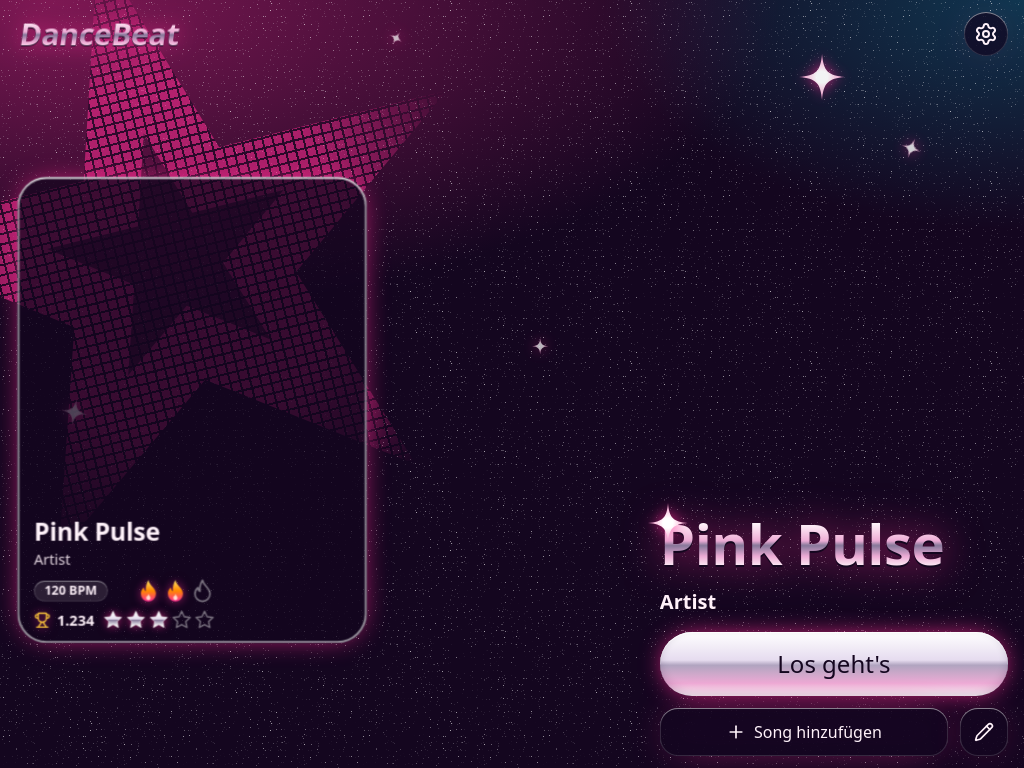
Scenario: Dance video in the edit dialog (8h-2b-2a) › shows an error inside the confirmation when removing fails
Click the button named "Song bearbeiten".
click(984, 732)  # box [960,708,1008,756]
(page scrolled)
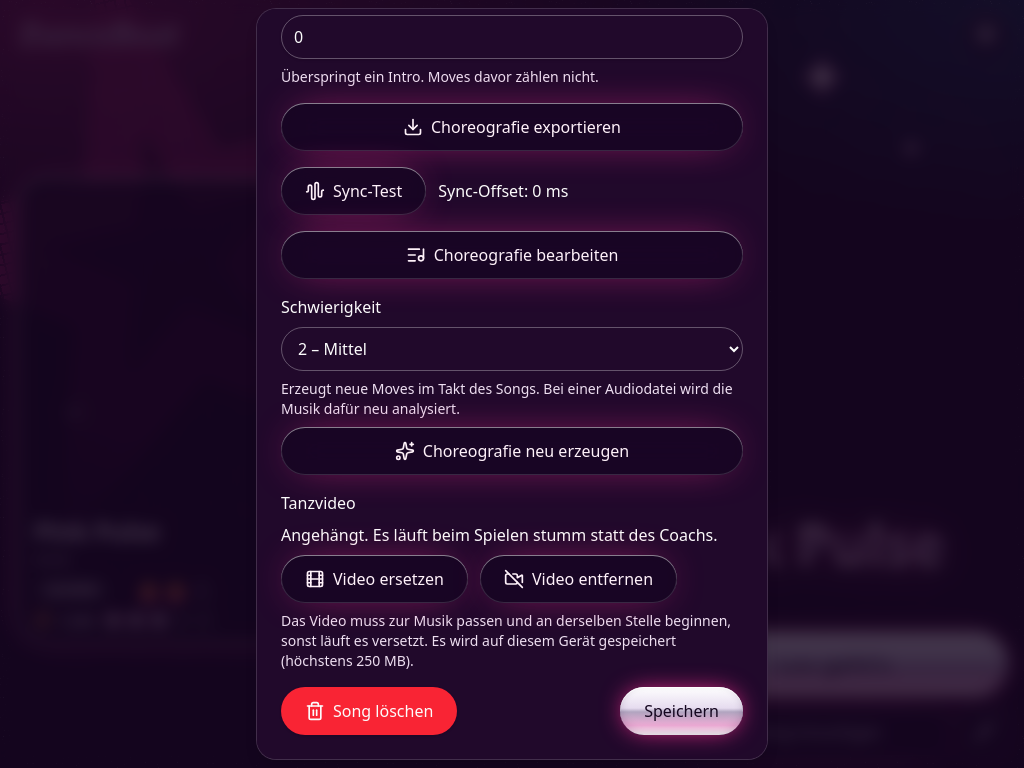
Click the button "Video entfernen".
click(579, 579)  # box [480,555,677,603]
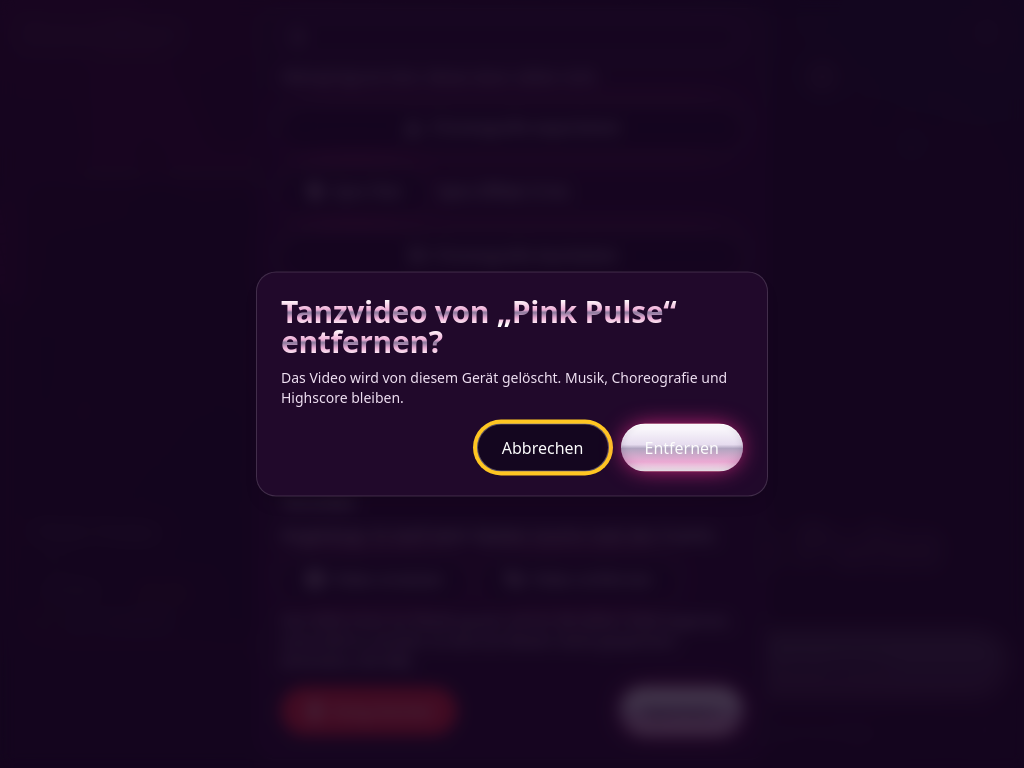
Click the button "Entfernen".
click(682, 448)  # box [620,424,743,472]
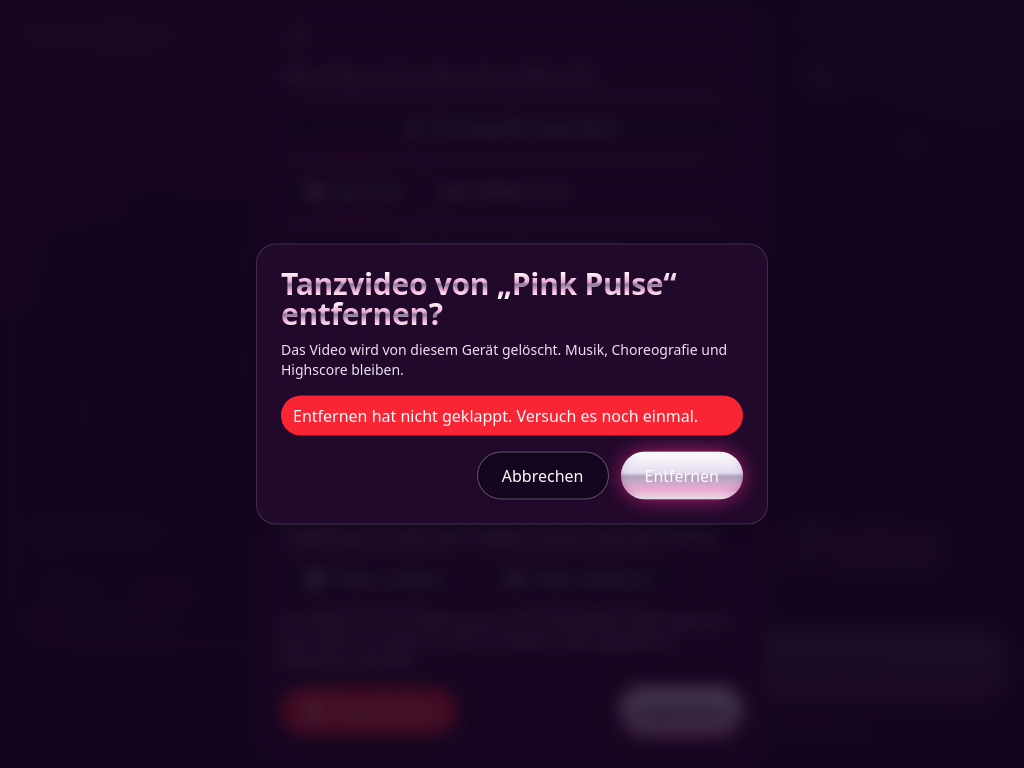
expect the message reads "Entfernen hat nicht geklappt. Versuch es noch einmal.": met, box [293,404,698,426]
